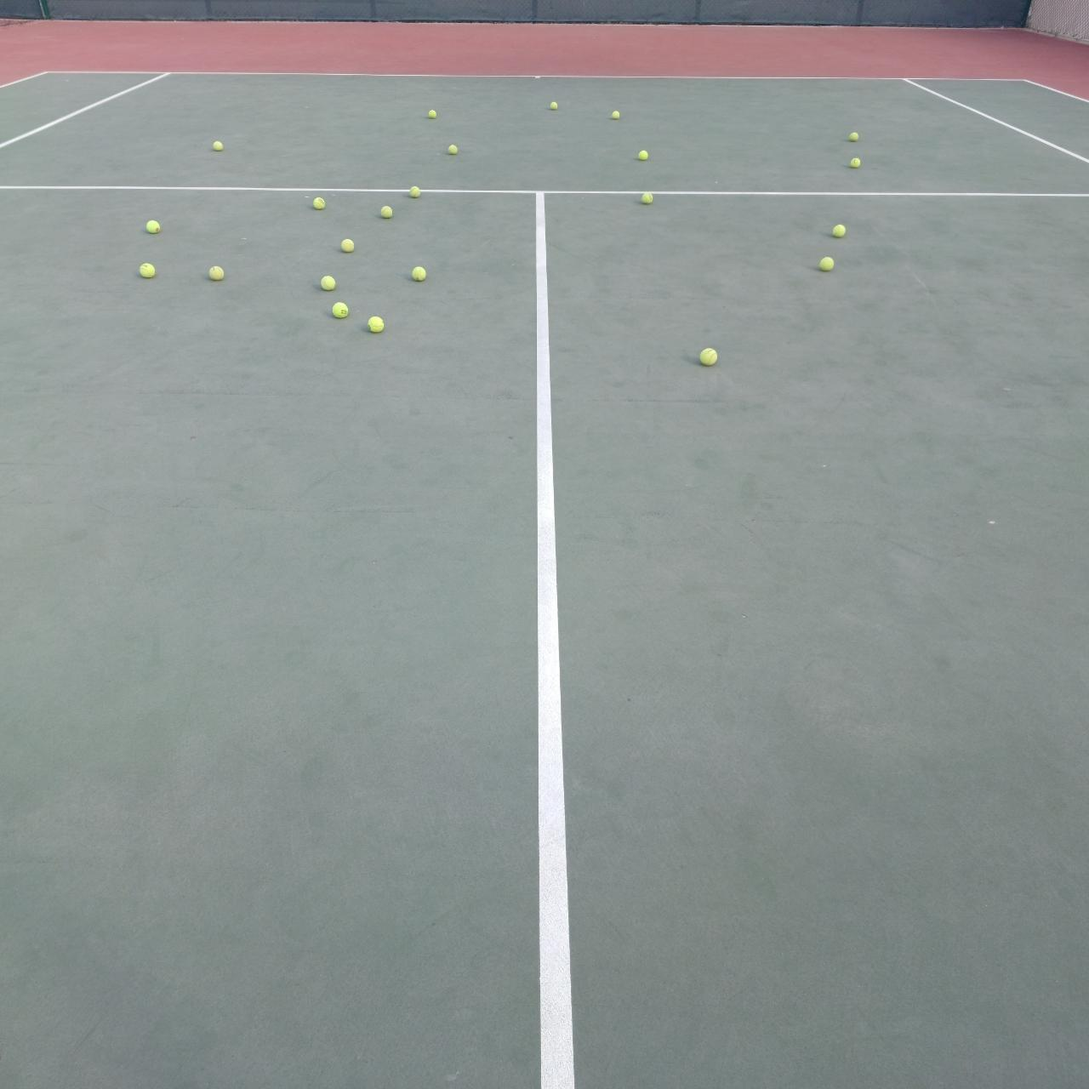tennis-ball: (698, 345, 717, 366), (366, 314, 385, 333), (207, 264, 225, 282), (138, 262, 156, 279), (410, 264, 426, 282), (332, 302, 349, 318), (145, 219, 161, 235), (320, 275, 336, 291), (340, 239, 355, 253), (820, 257, 834, 272), (832, 224, 845, 239), (313, 198, 326, 210), (381, 205, 393, 218), (409, 186, 421, 199), (641, 192, 653, 204), (850, 157, 861, 168), (448, 144, 458, 155), (639, 150, 649, 161), (849, 132, 859, 142), (213, 141, 222, 151), (611, 110, 620, 120), (428, 110, 437, 119), (550, 101, 558, 110)
